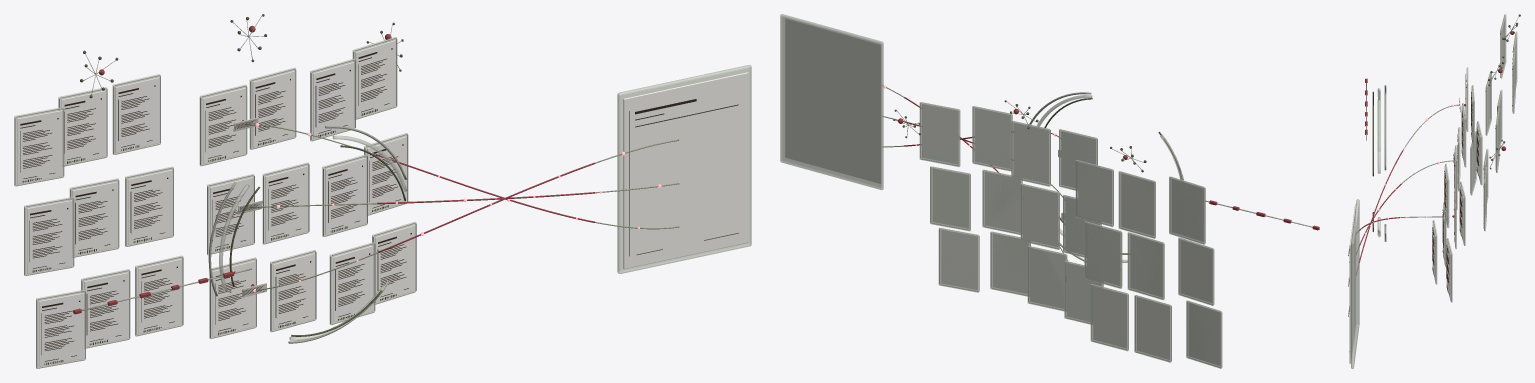
The model's file is legal.glb.
3 renders of one model, left to right at view 1: azimuth 30°, elevation 25°; view 2: azimuth 150°, elevation 25°; view 3: azimuth 270°, elevation 25°, orthographic. The views are drawn at different scales.
Parts seen in each view (by area): view 1: LEGAL_Evidence_Canvas, LEGAL_Evidence_Glass, LEGAL_Document_14_Content, LEGAL_Document_07_Content, LEGAL_Document_00_Content, LEGAL_Document_08_Content, LEGAL_Document_09_Content, LEGAL_Document_16_Content, LEGAL_Document_15_Content, LEGAL_Document_01_Content, LEGAL_Document_02_Content, LEGAL_Document_11_Content (+40 smaller); view 2: LEGAL_Evidence_Glass, LEGAL_Evidence_Canvas, LEGAL_Document_06_Glass, LEGAL_Document_20_Glass, LEGAL_Document_13_Glass, LEGAL_Document_19_Glass, LEGAL_Document_18_Glass, LEGAL_Document_11_Glass, LEGAL_Document_04_Glass, LEGAL_Document_02_Glass, LEGAL_Document_16_Glass, LEGAL_Document_12_Glass (+32 smaller); view 3: LEGAL_Evidence_Glass, LEGAL_Evidence_Canvas, LEGAL_Document_07_Glass, LEGAL_Document_00_Glass, LEGAL_Document_14_Glass, LEGAL_Query_Arc_1_0, LEGAL_Query_Arc_0_0, LEGAL_Document_08_Glass, LEGAL_Document_07_Content, LEGAL_Citation_Active_2, LEGAL_Document_09_Glass, LEGAL_Document_06_Content (+12 smaller).
Boxes of the visible parts, x1,y1,x2,y2 form: LEGAL_Evidence_Canvas: (623, 72, 748, 269); LEGAL_Evidence_Glass: (617, 65, 751, 273); LEGAL_Document_14_Content: (17, 110, 62, 184); LEGAL_Document_07_Content: (27, 200, 71, 273); LEGAL_Document_00_Content: (39, 293, 83, 366); LEGAL_Document_08_Content: (72, 182, 117, 255); LEGAL_Document_09_Content: (128, 170, 171, 244); LEGAL_Document_16_Content: (115, 77, 158, 152); LEGAL_Document_15_Content: (61, 90, 105, 164); LEGAL_Document_01_Content: (84, 272, 128, 346); LEGAL_Document_02_Content: (138, 259, 181, 334); LEGAL_Document_11_Content: (265, 166, 307, 241); LEGAL_Evidence_Glass: (780, 14, 883, 190); LEGAL_Evidence_Canvas: (785, 18, 881, 183); LEGAL_Document_06_Glass: (938, 227, 979, 292); LEGAL_Document_20_Glass: (919, 102, 960, 166); LEGAL_Document_13_Glass: (930, 166, 970, 231); LEGAL_Document_19_Glass: (972, 106, 1012, 171); LEGAL_Document_18_Glass: (1011, 120, 1050, 186); LEGAL_Document_11_Glass: (1020, 183, 1059, 249); LEGAL_Document_04_Glass: (1027, 245, 1067, 311); LEGAL_Document_02_Glass: (1090, 284, 1128, 351); LEGAL_Document_16_Glass: (1075, 160, 1113, 227); LEGAL_Document_12_Glass: (982, 169, 1022, 234); LEGAL_Evidence_Glass: (1351, 199, 1359, 368); LEGAL_Evidence_Canvas: (1349, 204, 1355, 363); LEGAL_Document_07_Glass: (1486, 72, 1491, 135); LEGAL_Document_00_Glass: (1471, 131, 1476, 195); LEGAL_Document_14_Glass: (1501, 14, 1506, 78); LEGAL_Query_Arc_1_0: (1377, 98, 1380, 173); LEGAL_Query_Arc_0_0: (1384, 92, 1386, 170); LEGAL_Document_08_Glass: (1497, 89, 1502, 150); LEGAL_Document_07_Content: (1485, 75, 1490, 131); LEGAL_Citation_Active_2: (1356, 150, 1402, 274); LEGAL_Document_09_Glass: (1496, 108, 1499, 172); LEGAL_Document_06_Content: (1446, 240, 1450, 300).
Size of what is drawn, in the model's own units: 11.11 by 4.49 by 3.57.
